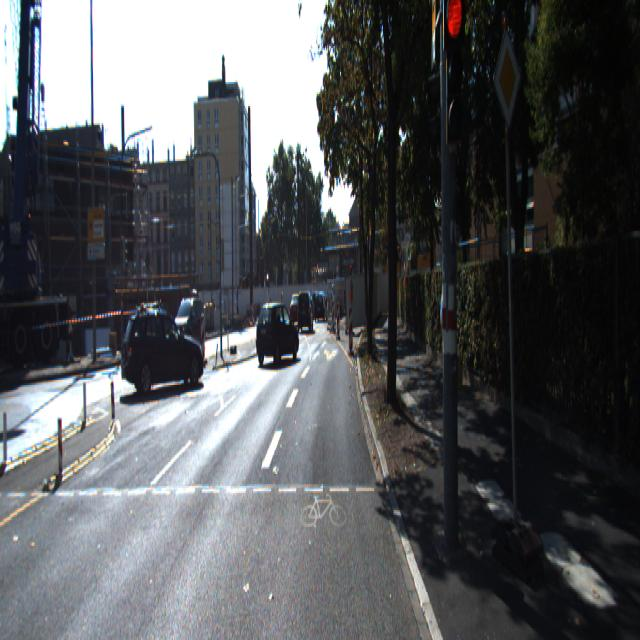Car: (119, 301, 205, 393), (254, 295, 300, 364), (170, 293, 205, 350), (296, 284, 313, 328), (290, 292, 304, 324)
DontCare: (314, 283, 335, 318)
